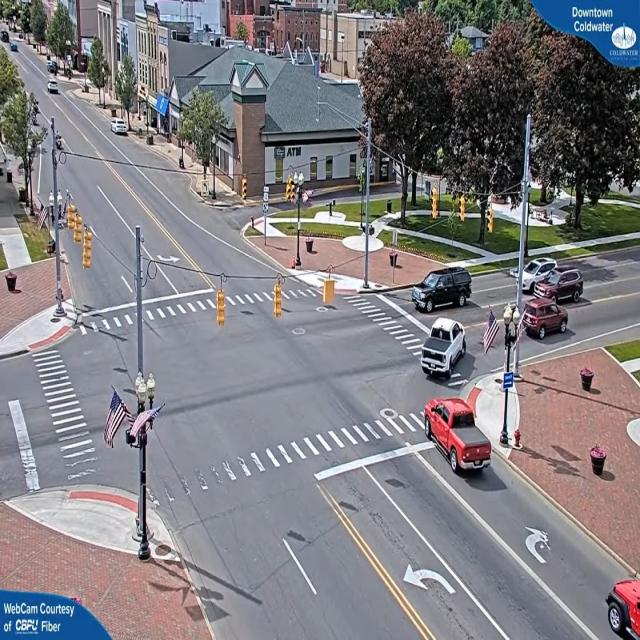car: (425, 397, 493, 476), (421, 319, 467, 378), (412, 265, 472, 310), (531, 259, 585, 305), (522, 297, 570, 339), (606, 580, 639, 640), (112, 120, 129, 136), (48, 82, 61, 95), (11, 44, 21, 54)
